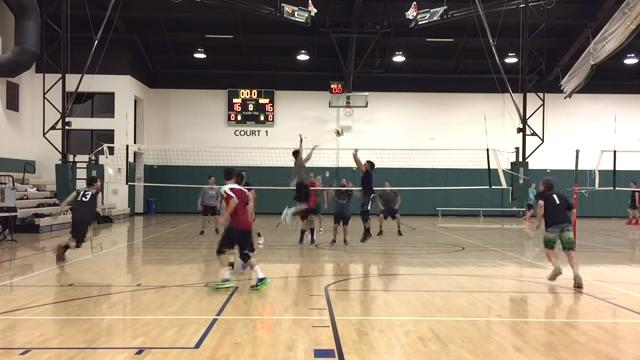Player: (216, 168, 268, 288), (536, 178, 582, 288), (56, 176, 100, 263), (281, 135, 316, 223), (298, 177, 320, 245), (331, 179, 352, 244), (377, 182, 402, 235), (198, 176, 220, 234)
Set: (346, 146, 374, 248)
ball: (332, 128, 344, 139)
